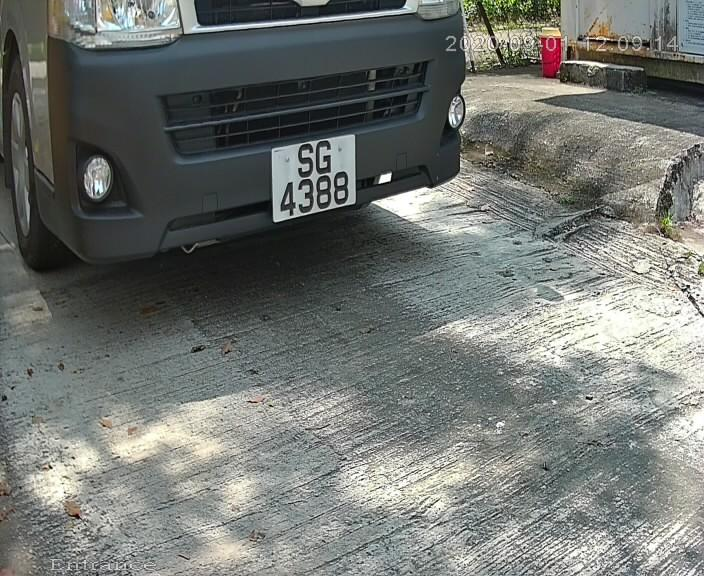License Plate: (261, 132, 371, 224)
